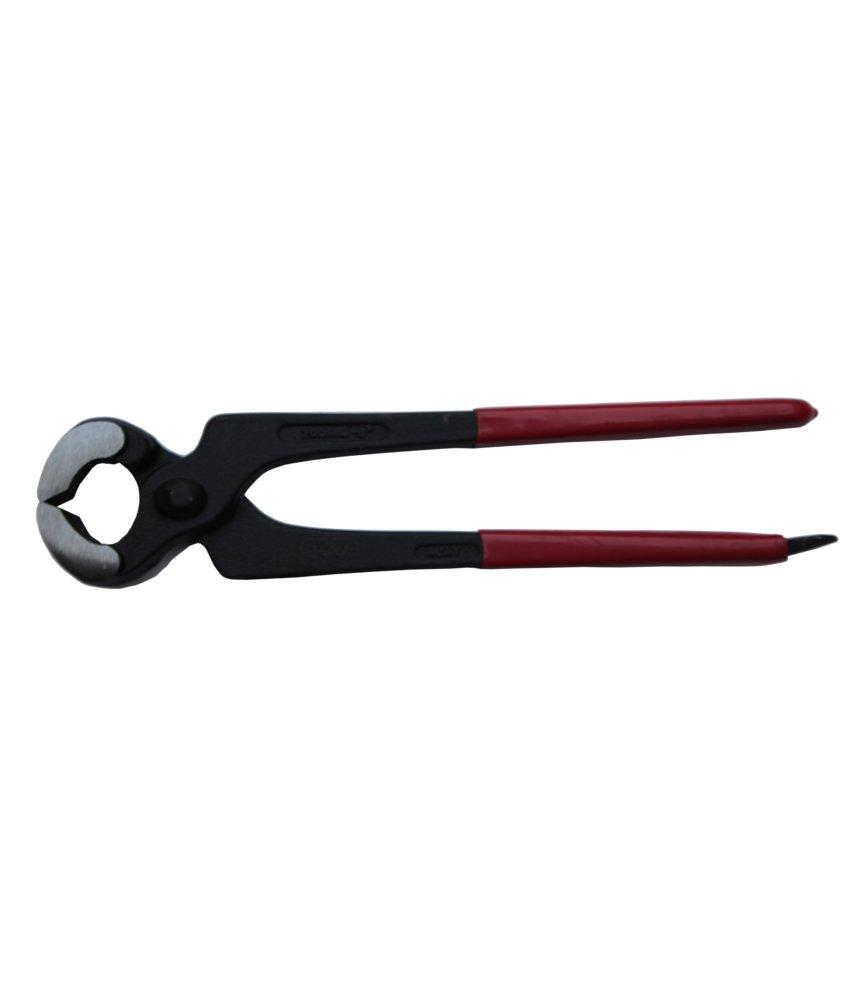Pincers: (26, 380, 843, 600)
